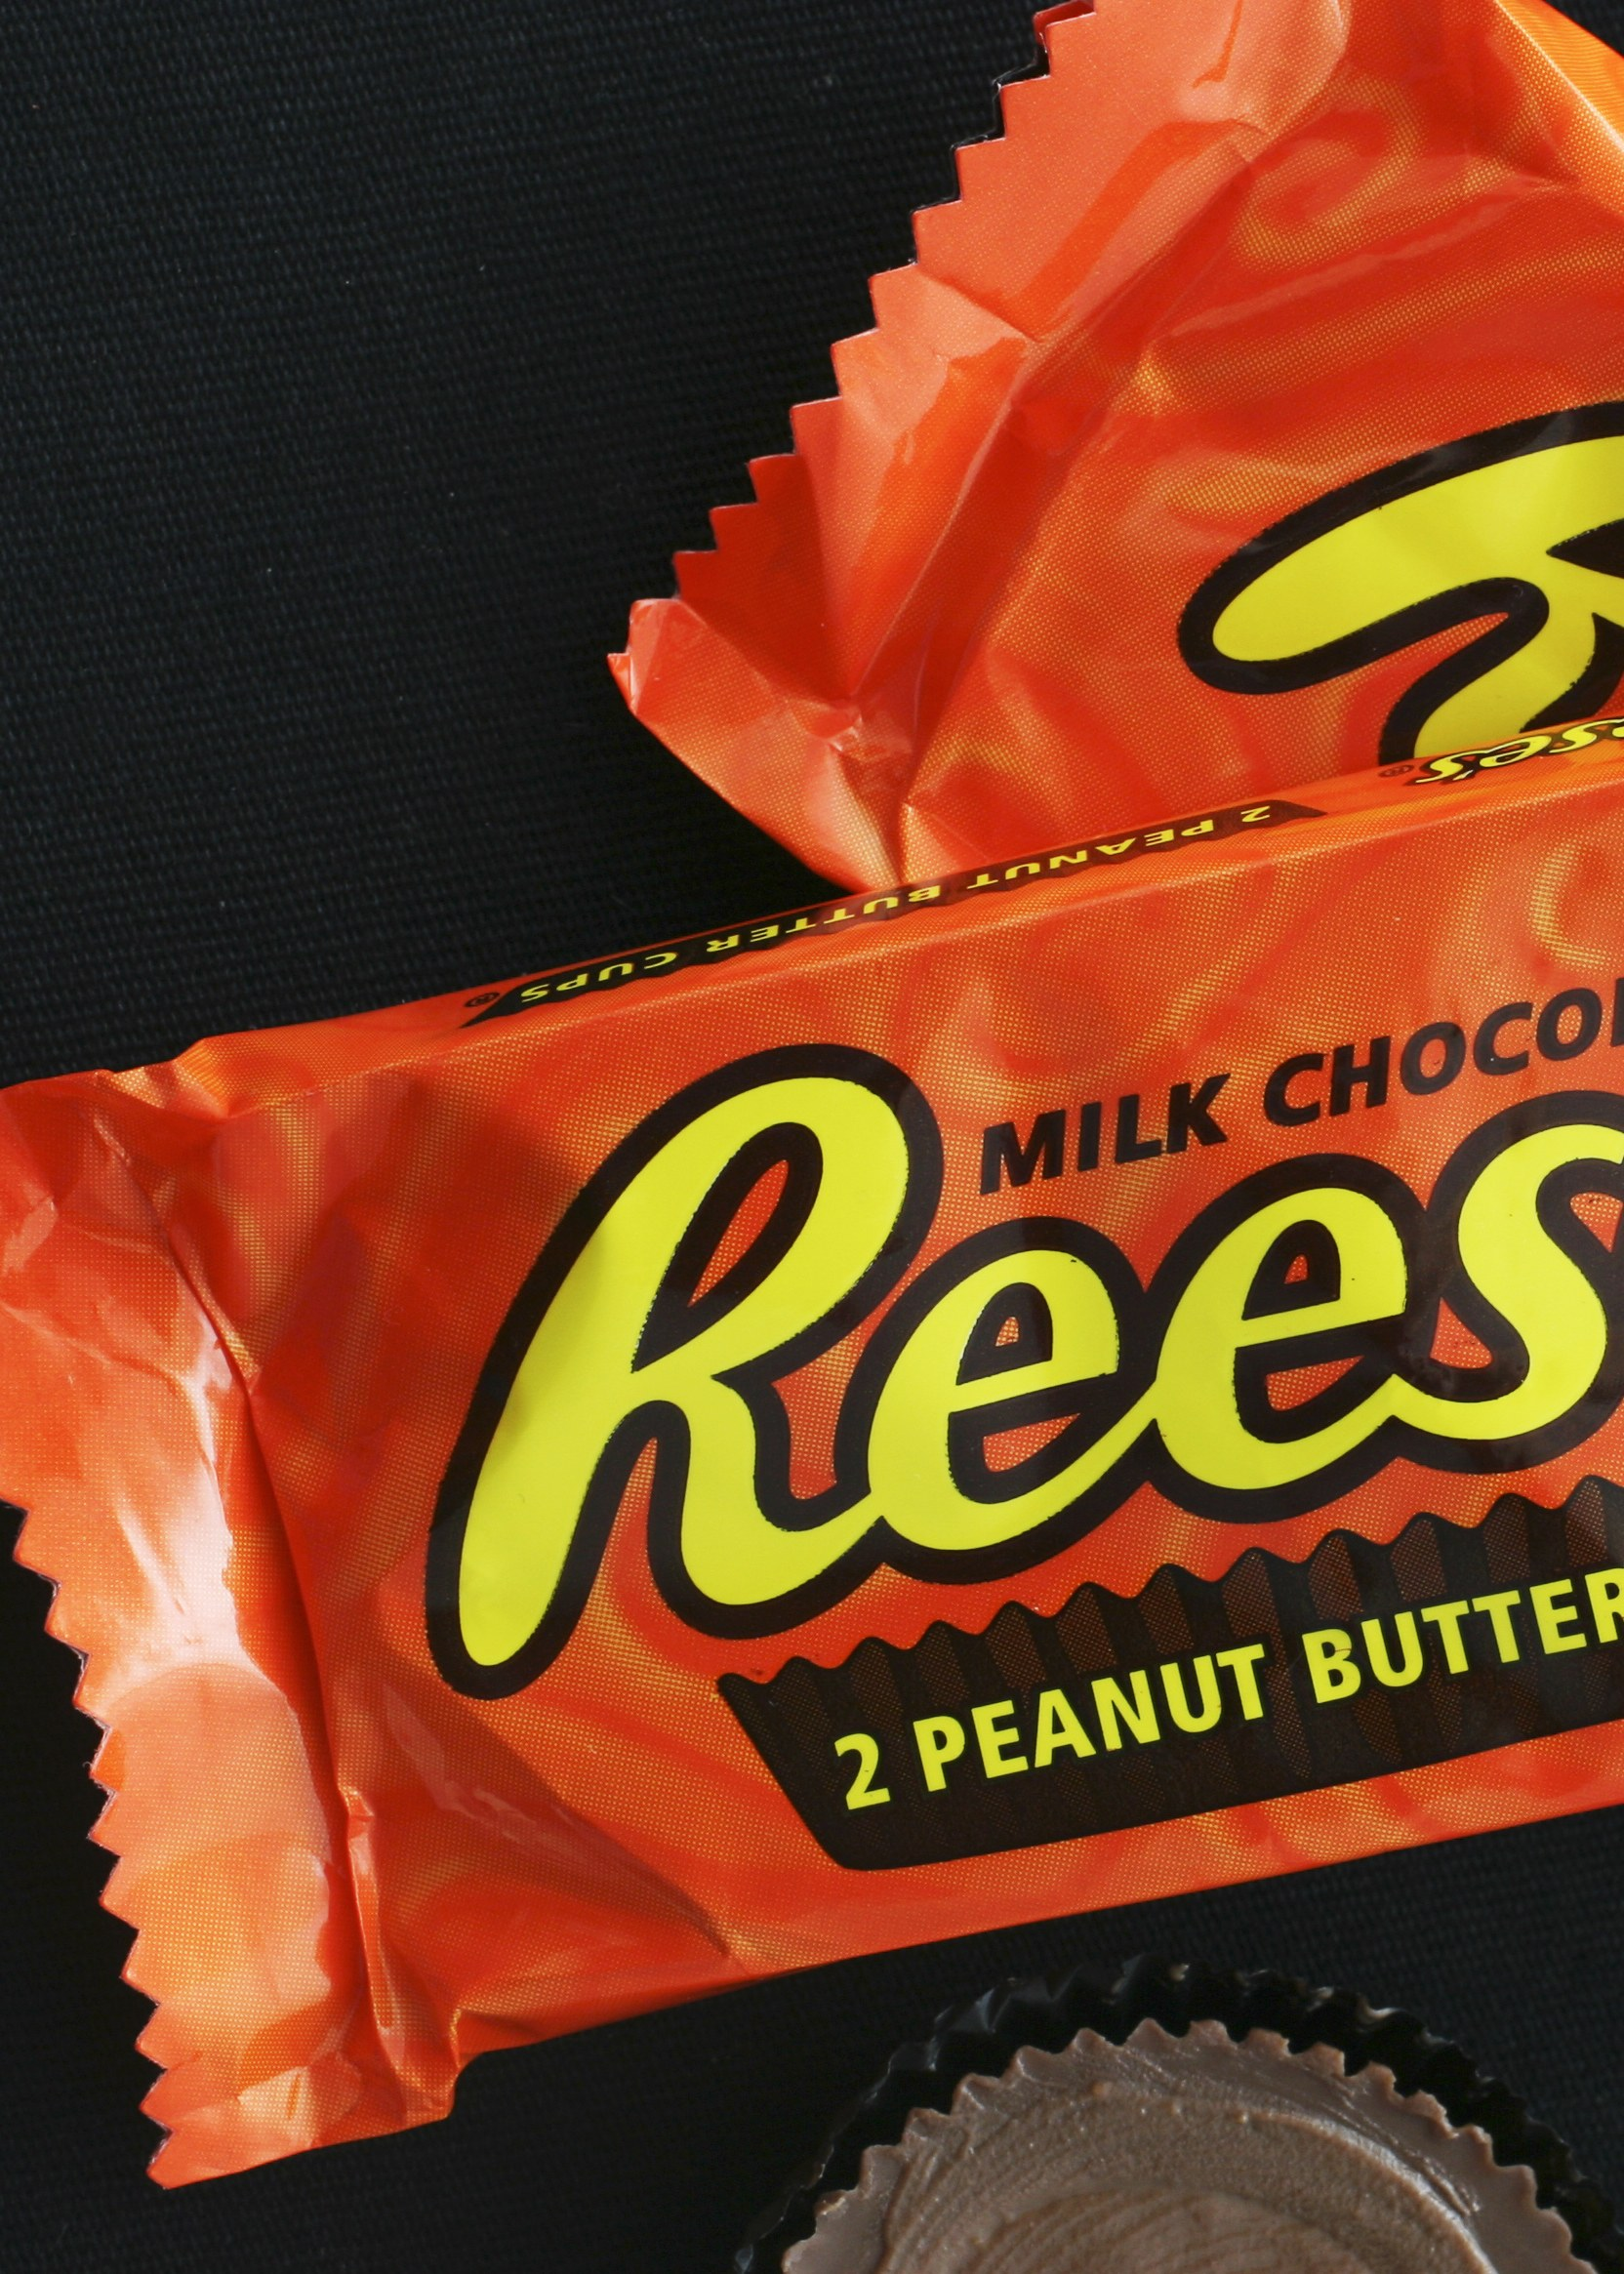reese: (28, 728, 1619, 2158)
